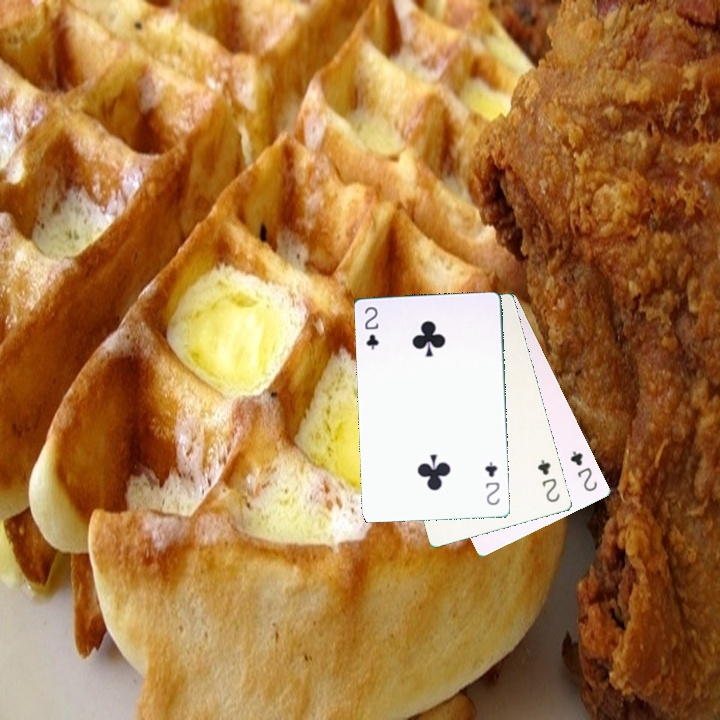2c: (566, 446, 600, 494), (534, 455, 562, 505), (360, 303, 381, 353), (481, 458, 502, 507)
